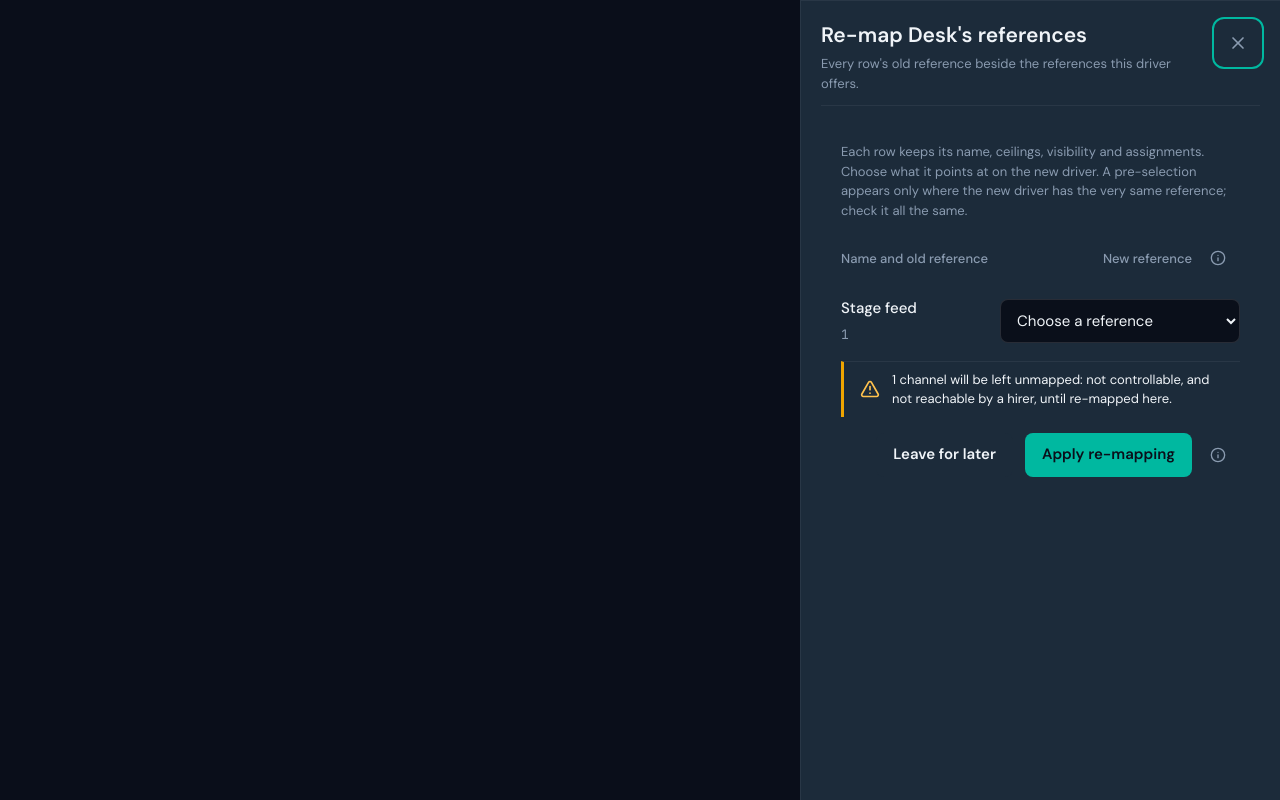
Test: ChangeDriverSheet › refuses to leave a matrix row unmapped without asking the API
The width and height of the screenshot is (1280, 800).
What coordinates should you click on to do the following:
click the button "Apply re-mapping"
I would click on:
 (1108, 455)
Its box is [1025, 433, 1192, 477].
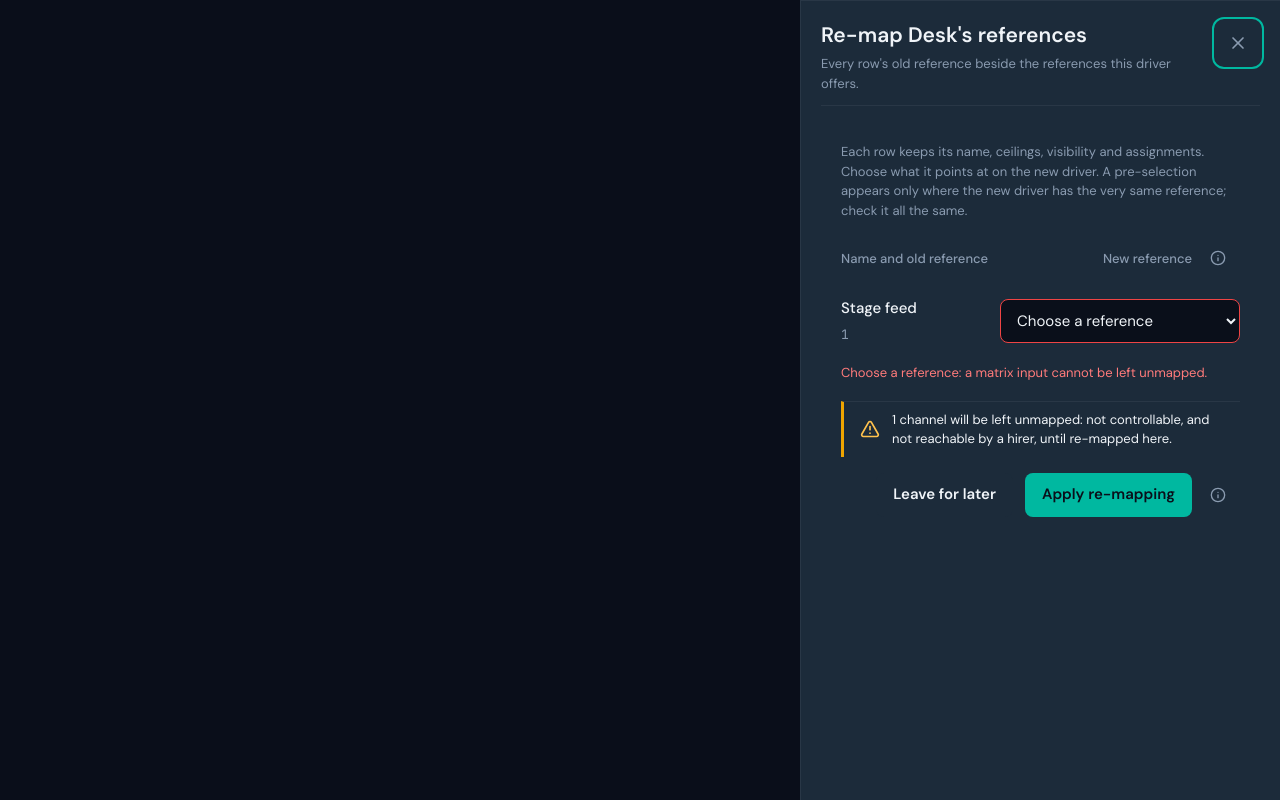
Expected: the text "Choose a reference: a matrix input cannot be left unmapped." is shown, [841, 361, 1240, 385]
